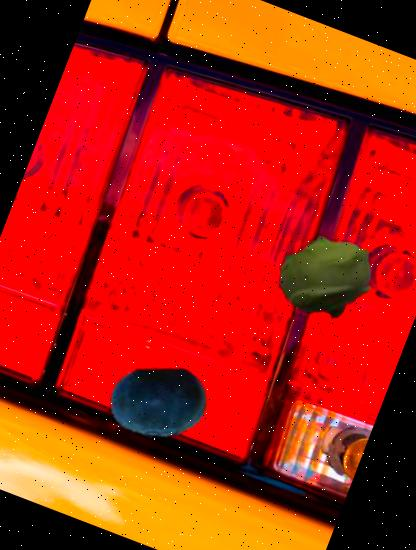Blueberry: (93, 339, 222, 468)
Kohlrabi: (263, 214, 390, 342)
